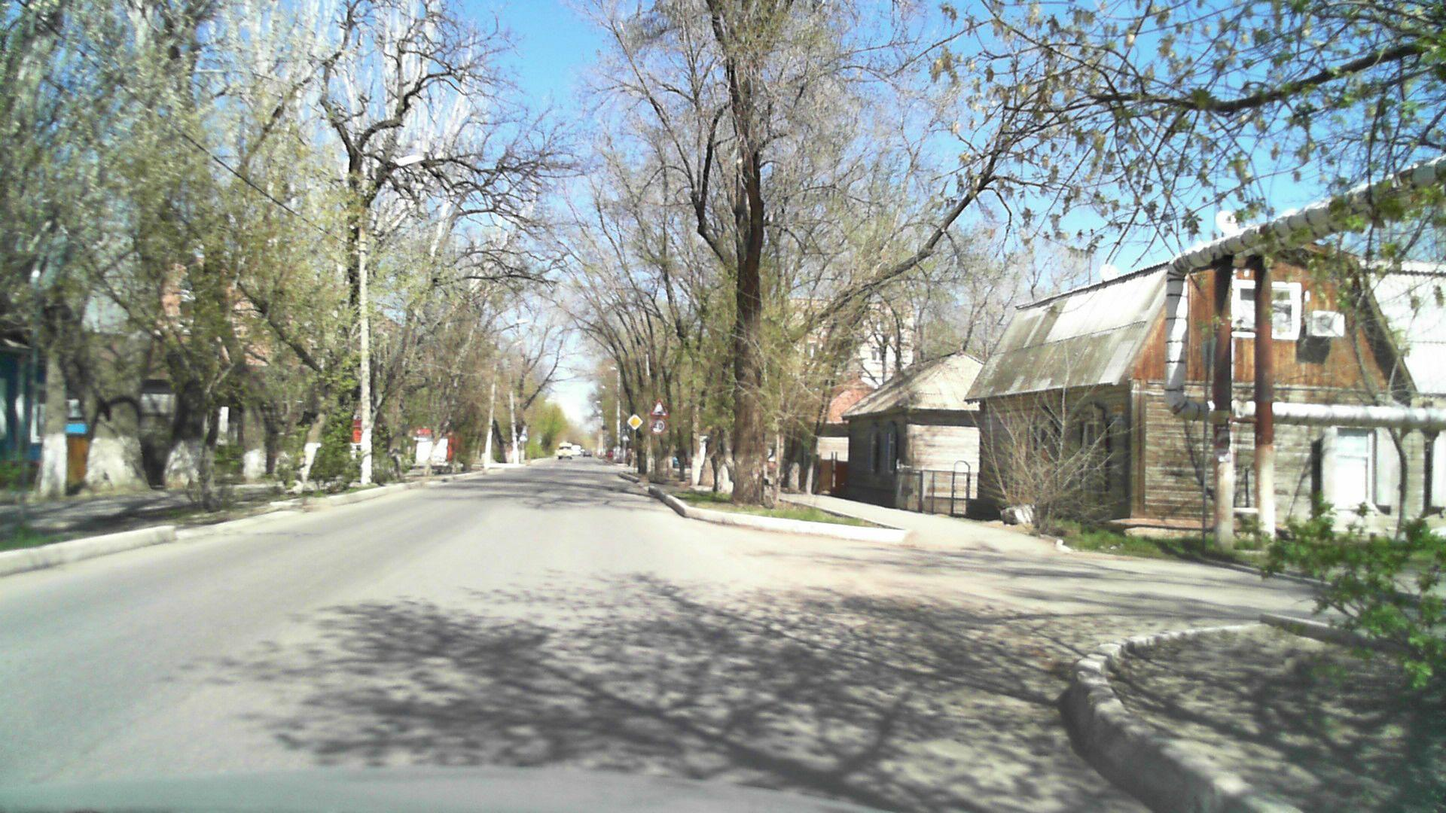road_sign: (649, 398, 669, 416), (626, 414, 644, 430), (649, 418, 665, 434)
